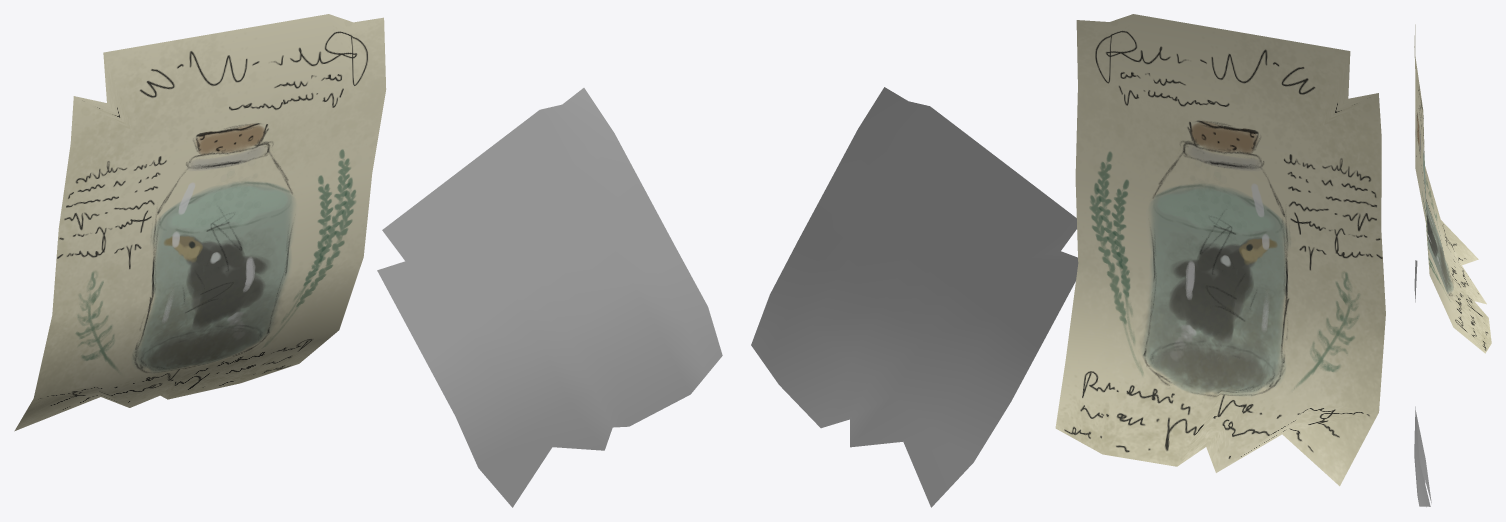
File: Drawings3.fbx
The picture shows the model from 3 angles, left to right: view 1: azimuth 30°, elevation 25°; view 2: azimuth 150°, elevation 25°; view 3: azimuth 270°, elevation 25°; orthographic projection. The views are drawn at different scales.
Parts seen in each view (by area): view 1: Kartka5, Kartka1; view 2: Kartka5, Kartka1; view 3: Kartka5, Kartka1.
Part boxes in pixels (bbox=[...]): Kartka5: bbox=[14, 14, 386, 431]; Kartka1: bbox=[377, 88, 722, 507]; Kartka5: bbox=[1055, 14, 1385, 486]; Kartka1: bbox=[751, 87, 1078, 507]; Kartka5: bbox=[1414, 24, 1491, 353]; Kartka1: bbox=[1414, 260, 1431, 507].
Bounding box in the file's own units: 237 × 192 × 37.47.
